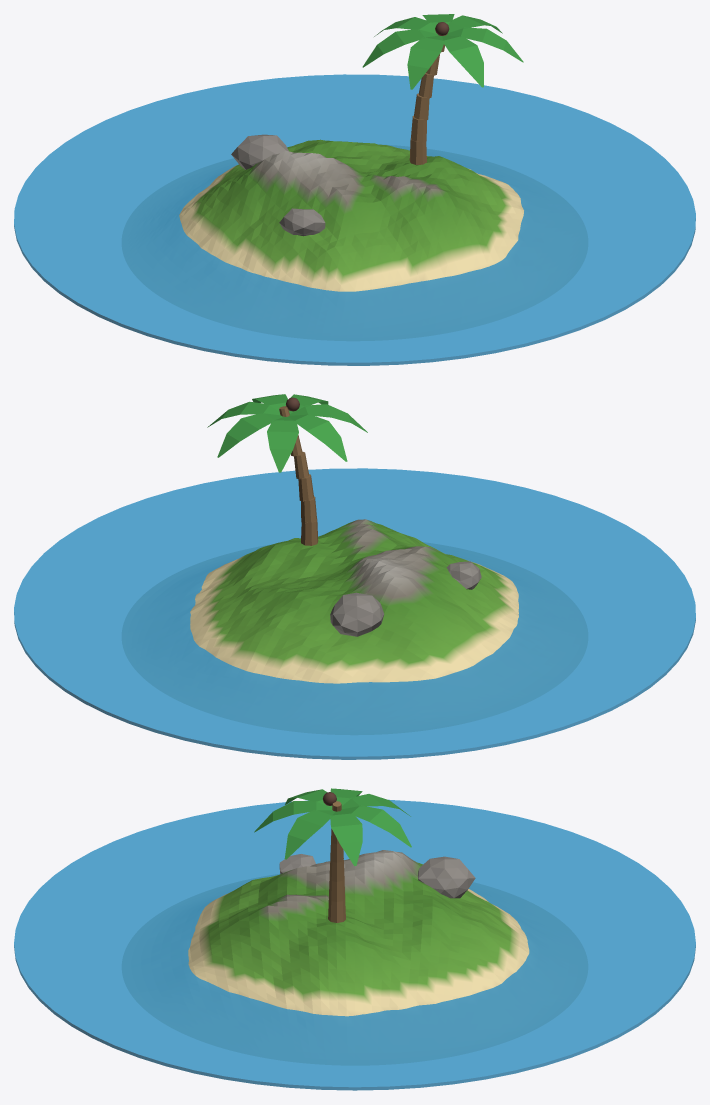
File: island.glb
3 views of the same model, one above another, from view 1: azimuth 30°, elevation 25°; view 2: azimuth 150°, elevation 25°; view 3: azimuth 270°, elevation 25° (orthographic).
Parts seen in each view (by area): view 1: Water, Terrain, Palm Leaves, Palm Trunk, Rock.2, Rock; view 2: Water, Terrain, Palm Leaves, Rock.2, Palm Trunk, Rock; view 3: Water, Terrain, Palm Leaves, Rock.2, Palm Trunk.
Boxes of the visible parts, x1,y1,x2,y2 form: Water: (14,74,695,365); Terrain: (122,139,587,340); Palm Leaves: (362,14,523,89); Palm Trunk: (409,33,447,164); Rock.2: (231,134,288,169); Rock: (279,208,325,236); Water: (14,468,695,759); Terrain: (122,519,587,734); Palm Leaves: (207,394,367,472); Rock.2: (330,592,384,636); Palm Trunk: (279,406,318,545); Rock: (446,561,481,589); Water: (14,799,695,1090); Terrain: (122,850,587,1064); Palm Leaves: (254,788,411,866); Rock.2: (418,856,475,898); Palm Trunk: (328,801,345,922).
Size of the model in its own units: 3.8 by 1.3 by 3.8.
